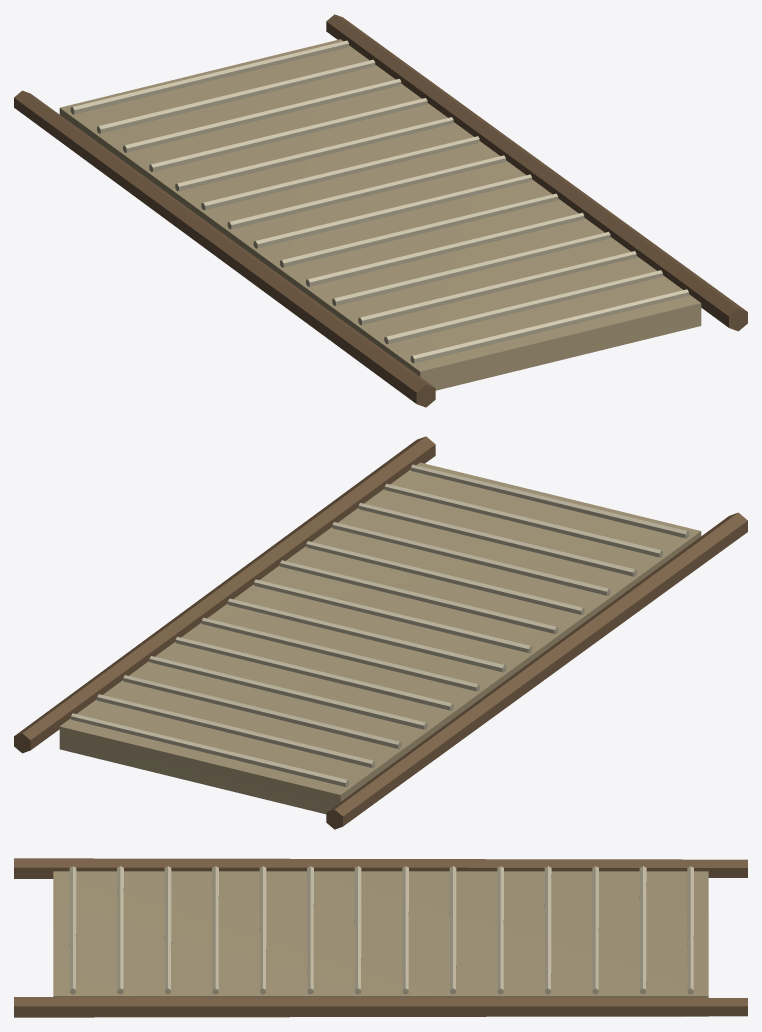
Rendered from mat_flat.glb.
3 renders of one model, top to bottom at view 1: azimuth 30°, elevation 25°; view 2: azimuth 150°, elevation 25°; view 3: azimuth 270°, elevation 25°, orthographic. The views are drawn at different scales.
Parts seen in each view (by area): view 1: mat_flat; view 2: mat_flat; view 3: mat_flat.
Boxes of the visible parts, x1,y1,x2,y2 form: mat_flat: (14, 14, 747, 407); mat_flat: (14, 436, 747, 829); mat_flat: (14, 858, 747, 1017).
Bounding box in the file's own units: 1.06 × 0.092 × 2.24.
